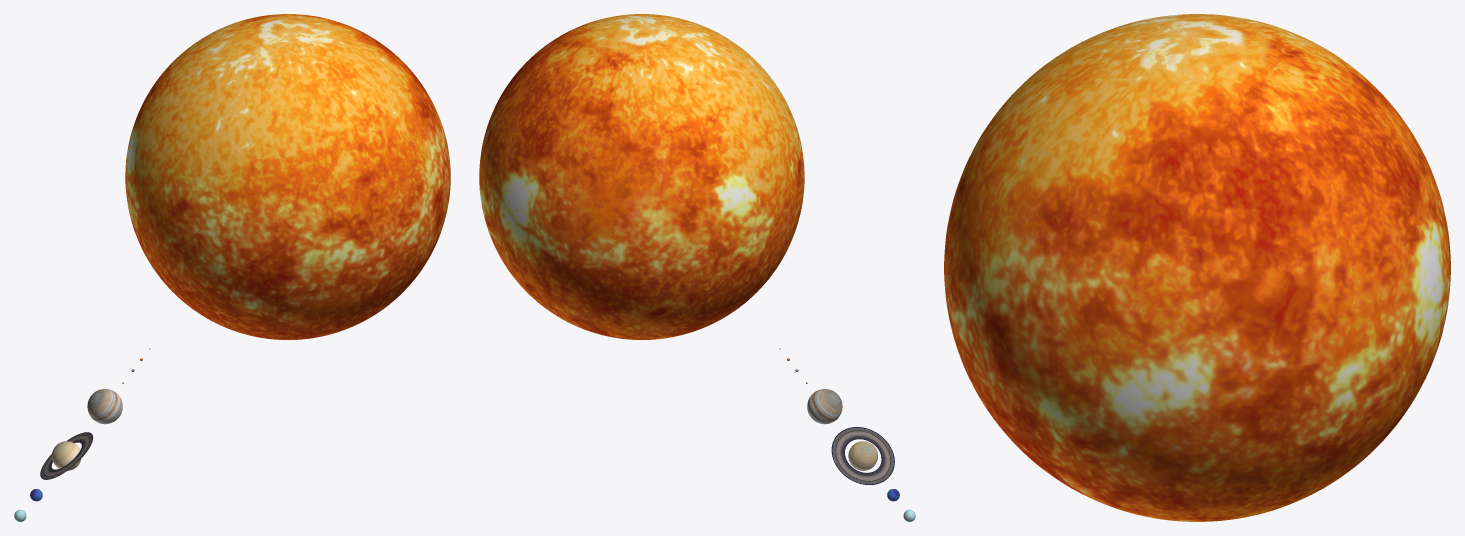
Rendered from PlanetsOBJ.obj.
3 renders of one model, left to right at view 1: azimuth 30°, elevation 25°; view 2: azimuth 150°, elevation 25°; view 3: azimuth 270°, elevation 25°, orthographic. The views are drawn at different scales.
Parts seen in each view (by area): view 1: Sun_Sphere.003, Jupiter_Sphere.005, Ring_Circle.001, Saturn_Sphere.006; view 2: Sun_Sphere.003, Ring_Circle.001, Jupiter_Sphere.005, Saturn_Sphere.006; view 3: Sun_Sphere.003.
Part boxes in pixels (left/top/right/bottom): Sun_Sphere.003: left=125, top=14, right=450, bottom=339; Jupiter_Sphere.005: left=87, top=389, right=122, bottom=424; Ring_Circle.001: left=40, top=432, right=93, bottom=479; Saturn_Sphere.006: left=52, top=441, right=81, bottom=470; Sun_Sphere.003: left=479, top=14, right=804, bottom=339; Ring_Circle.001: left=831, top=427, right=894, bottom=484; Jupiter_Sphere.005: left=807, top=389, right=842, bottom=424; Saturn_Sphere.006: left=848, top=441, right=877, bottom=470; Sun_Sphere.003: left=944, top=14, right=1450, bottom=521.
Size of the model in its own units: 320 by 315 by 218.
